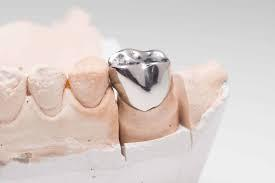crown: (107, 44, 175, 116)
